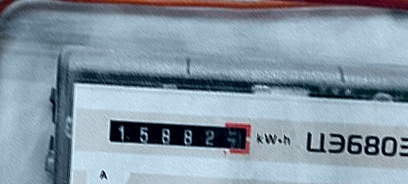1: (115, 122, 127, 140)
2: (203, 127, 216, 146)
5: (137, 124, 150, 142)
7: (225, 136, 237, 148)
8: (158, 125, 172, 143), (181, 126, 194, 145)
screen: (100, 107, 257, 161)
